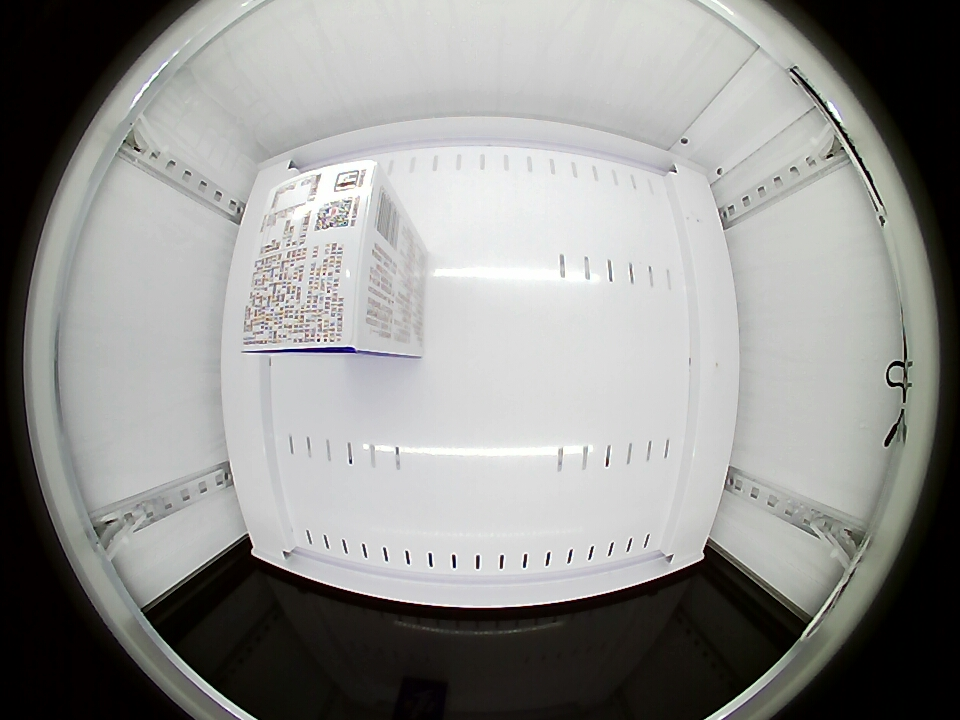meiniye: (232, 159, 396, 355)
